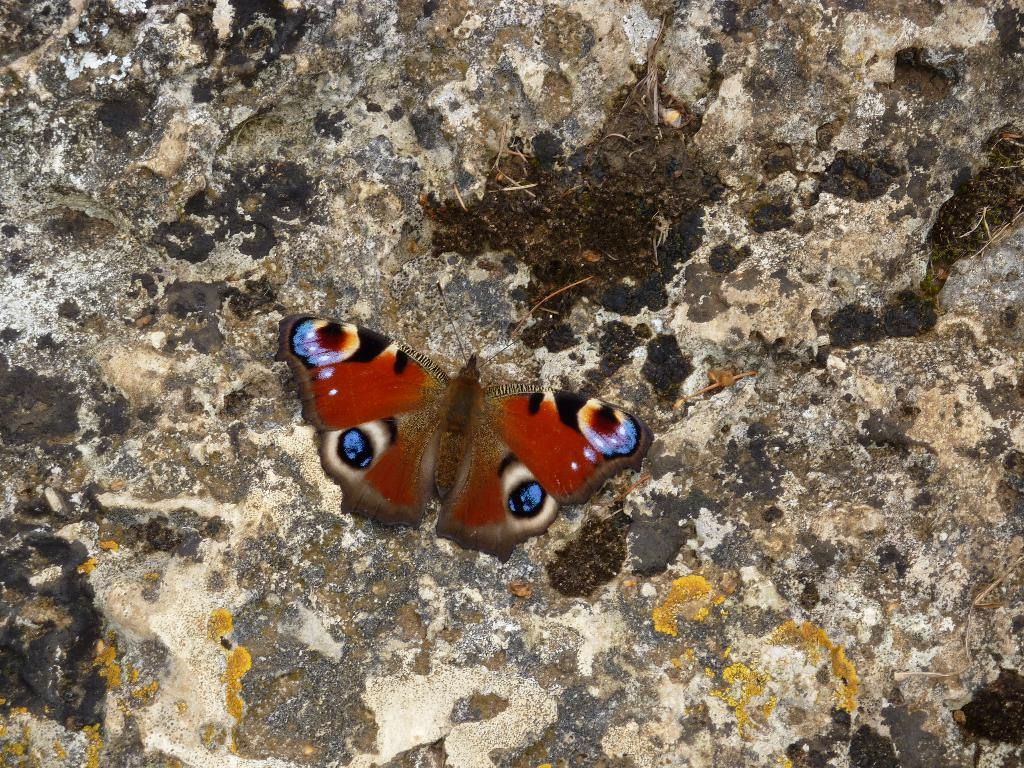Butterfly: (272, 285, 681, 572)
